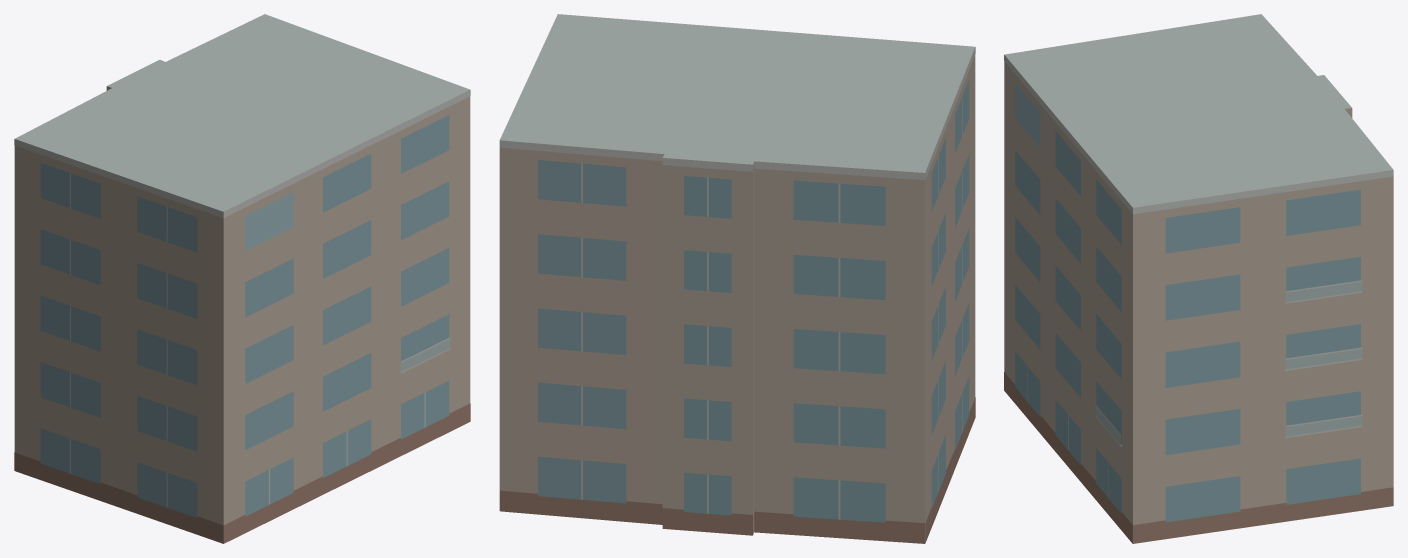
Rendered from survey-upis-32820723.glb.
3 views of the same model, side by side, from view 1: azimuth 30°, elevation 25°; view 2: azimuth 150°, elevation 25°; view 3: azimuth 270°, elevation 25° (orthographic). The views are drawn at different scales.
Parts seen in each view (by area): view 1: survey-upis-32820723.tmp; view 2: survey-upis-32820723.tmp; view 3: survey-upis-32820723.tmp.
Part boxes in pixels (<box>): survey-upis-32820723.tmp: <box>14,14,470,543</box>; survey-upis-32820723.tmp: <box>499,14,975,543</box>; survey-upis-32820723.tmp: <box>1004,14,1393,543</box>.
Size of the model in its own units: 15.53 by 12.55 by 13.19.
